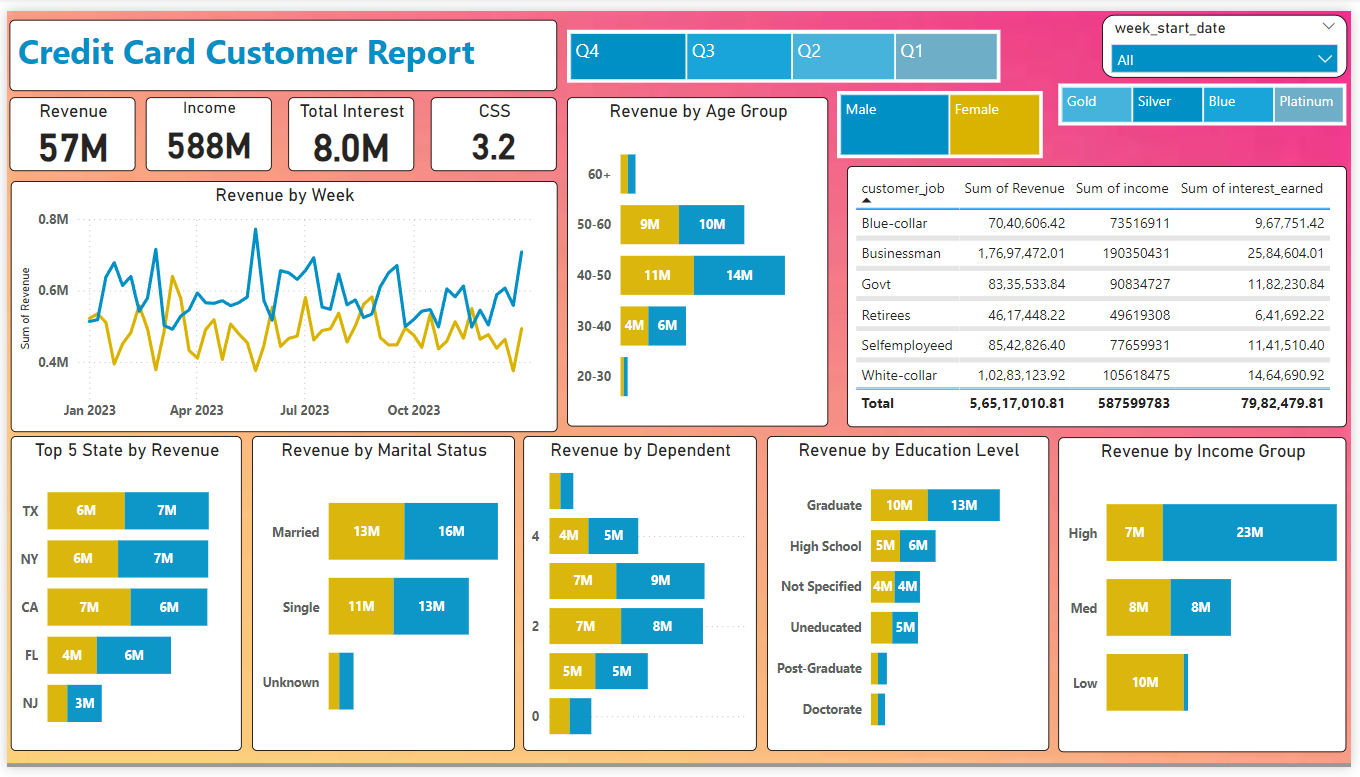

This screenshot's page, from the dashboard's own definition file:
{"tool":"powerbi","page":{"name":"Cc_Customer","canvas":[1280,720],"ordinal":1},"visuals":[{"type":"textbox","box":[2.4,8.3,521.4,67.9],"z":0},{"type":"barChart","title":"Revenue by Income Group","fields":{"Y":["Sum(public cc_detail.Revenue)"],"Category":["public cust_detail.IncomeGroup"],"Series":["public cust_detail.gender"]},"box":[1001.1,405.6,274.4,300],"z":1000},{"type":"tableEx","fields":{"Values":["public cust_detail.customer_job","Sum(public cc_detail.Revenue)","Sum(public cust_detail.income)","Sum(public cc_detail.interest_earned)"]},"box":[800,147.1,475.7,248.6],"z":2000},{"type":"card","title":"Revenue","fields":{"Values":["Sum(public cc_detail.Revenue)"]},"box":[2.2,82.2,120,70],"z":3000},{"type":"card","title":"Income ","fields":{"Values":["Sum(public cust_detail.income)"]},"box":[132.2,82.2,120,70],"z":4000},{"type":"card","title":"CSS","fields":{"Values":["Avg(public cust_detail.cust_satisfaction_score)"]},"box":[403.9,82.2,120,70],"z":5000},{"type":"card","title":"Total Interest","fields":{"Values":["Sum(public cc_detail.interest_earned)"]},"box":[268.3,82.2,120,70],"z":6000},{"type":"slicer","fields":{"Values":["public cc_detail.week_start_date"]},"box":[1042.3,3.6,233.6,60],"z":7000},{"type":"treemap","fields":{"Group":["public cc_detail.qtr"],"Values":["Avg(public cc_detail.client_num)"]},"box":[533.6,17.9,412.9,50.7],"z":8000},{"type":"treemap","fields":{"Group":["public cc_detail.card_category"],"Values":["Avg(public cc_detail.client_num)"]},"box":[1001,76,274.1,40],"z":9000},{"type":"lineChart","title":"Revenue by Week","fields":{"Y":["Sum(public cc_detail.Revenue)"],"Series":["public cust_detail.gender"],"Category":["public cc_detail.week_start_date.Variation.Date Hierarchy.Year","public cc_detail.week_start_date.Variation.Date Hierarchy.Month","public cc_detail.week_start_date.Variation.Date Hierarchy.Day"]},"box":[3.3,161.7,520.6,239.4],"z":10000},{"type":"treemap","fields":{"Group":["public cust_detail.gender"],"Values":["Sum(public cc_detail.Revenue)"]},"box":[790,75.9,195.9,64.1],"z":11000},{"type":"barChart","title":"Revenue by Age Group","fields":{"Y":["Sum(public cc_detail.Revenue)"],"Category":["public cust_detail.AgeGroup"],"Series":["public cust_detail.gender"]},"box":[533.3,82.2,248.9,313.3],"z":12000},{"type":"barChart","title":"Revenue by Dependent","fields":{"Y":["Sum(public cc_detail.Revenue)"],"Category":["public cust_detail.dependent_count"],"Series":["public cust_detail.gender"]},"box":[491.4,405,222.1,300],"z":13000},{"type":"barChart","title":"Revenue by Education Level","fields":{"Y":["Sum(public cc_detail.Revenue)"],"Category":["public cust_detail.education_level"],"Series":["public cust_detail.gender"]},"box":[723.6,405,268.6,300],"z":14000},{"type":"barChart","title":"Top 5 State by Revenue","fields":{"Y":["Sum(public cc_detail.Revenue)"],"Category":["public cust_detail.state_cd"],"Series":["public cust_detail.gender"]},"box":[3.3,405,220,300],"z":15000},{"type":"barChart","title":"Revenue by Marital Status","fields":{"Y":["Sum(public cc_detail.Revenue)"],"Category":["public cust_detail.marital_status"],"Series":["public cust_detail.gender"]},"box":[232.9,405,250,300],"z":16000}]}

Visuals, with their boxes in screenshot pixels (x1, y1, x2, y2), scaled from the page's 1280x720 canvas onto the 1360x777 screenshot:
textbox: select_region(3, 9, 557, 82)
"Revenue by Income Group" barChart: select_region(1064, 438, 1355, 761)
tableEx - public cust_detail.customer_job x Sum(public cc_detail.Revenue): select_region(850, 159, 1355, 427)
"Revenue" card: select_region(2, 89, 130, 164)
"Income " card: select_region(140, 89, 268, 164)
"CSS" card: select_region(429, 89, 557, 164)
"Total Interest" card: select_region(285, 89, 413, 164)
slicer - public cc_detail.week_start_date: select_region(1107, 4, 1356, 69)
treemap - public cc_detail.qtr x Avg(public cc_detail.client_num): select_region(567, 19, 1006, 74)
treemap - public cc_detail.card_category x Avg(public cc_detail.client_num): select_region(1064, 82, 1355, 125)
"Revenue by Week" lineChart: select_region(4, 175, 557, 433)
treemap - public cust_detail.gender x Sum(public cc_detail.Revenue): select_region(839, 82, 1048, 151)
"Revenue by Age Group" barChart: select_region(567, 89, 831, 427)
"Revenue by Dependent" barChart: select_region(522, 437, 758, 761)
"Revenue by Education Level" barChart: select_region(769, 437, 1054, 761)
"Top 5 State by Revenue" barChart: select_region(4, 437, 237, 761)
"Revenue by Marital Status" barChart: select_region(247, 437, 513, 761)
